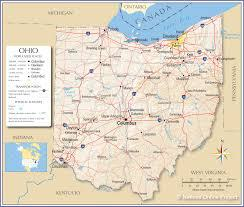ohio: (55, 26, 222, 201)
